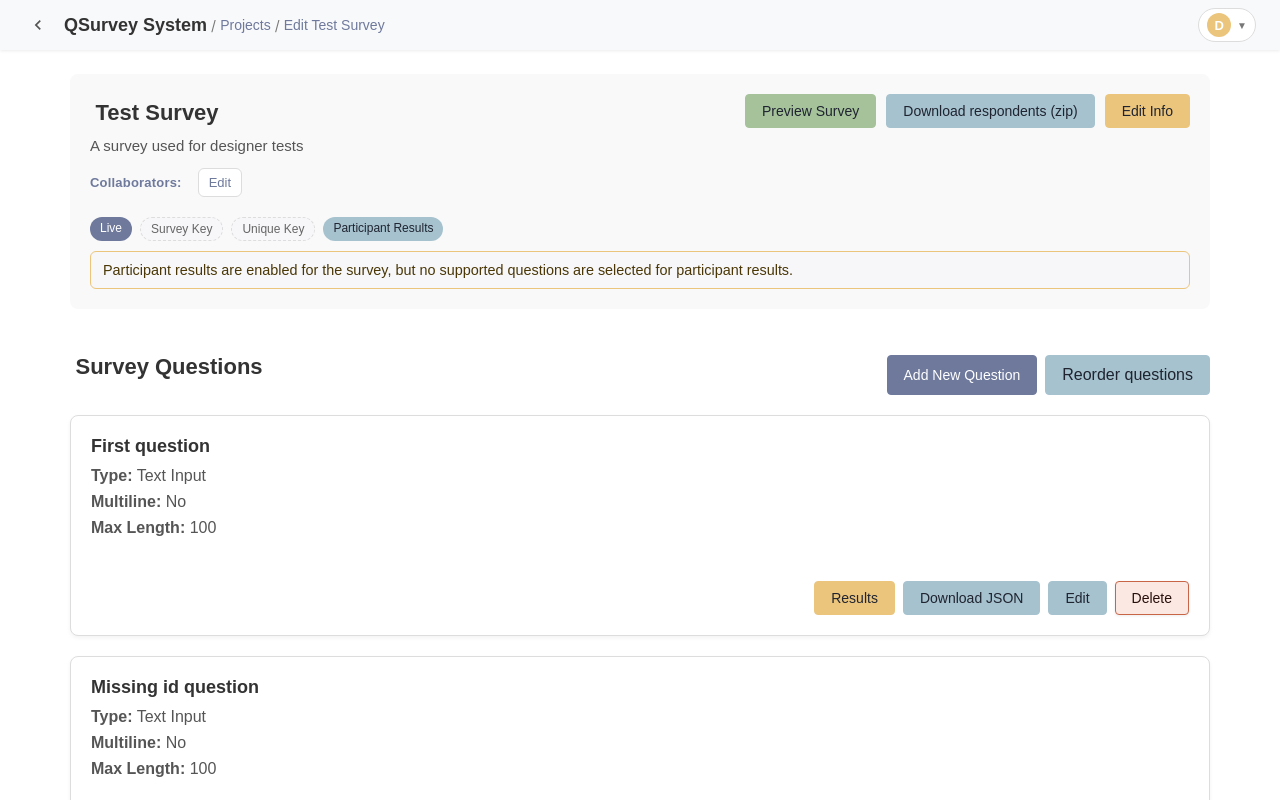
SurveyEdit designer workflows › shows error when a question is missing an id
This screenshot has width=1280, height=800.
Check: the heading "First question" is shown, box [91,436,210,456]
Click the button "Reorder questions" at (1128, 375), box [1045,355,1210,395]
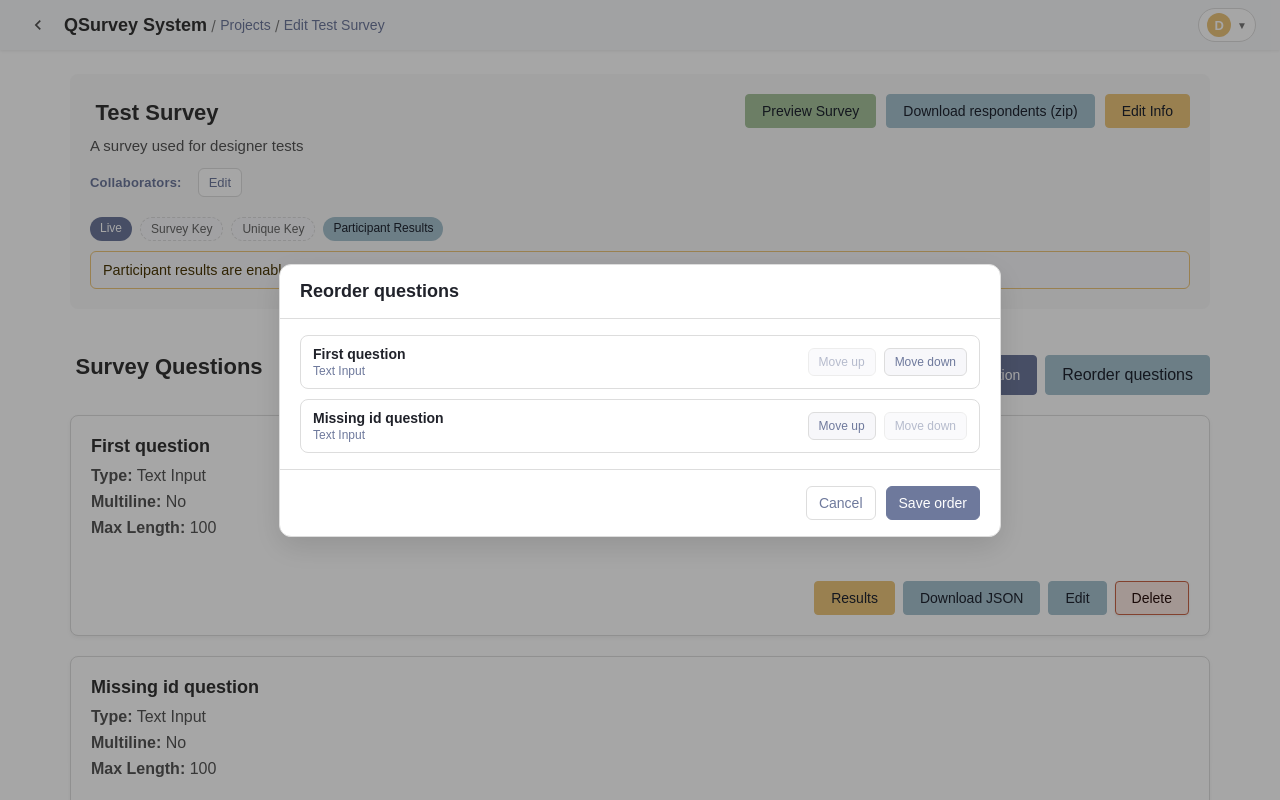
Click the button "Save order" at (933, 502), box [886,486,980,520]
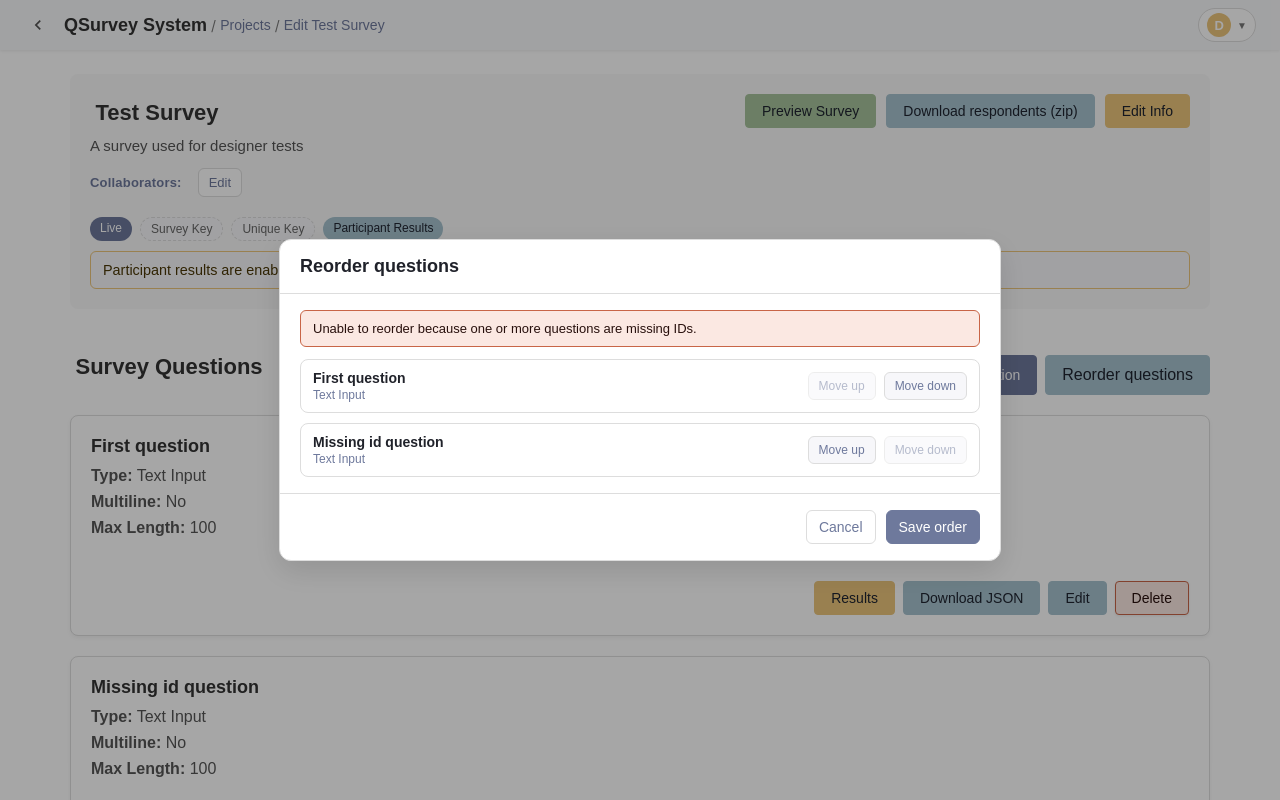
Check: the text "Unable to reorder because one or more questions are missing IDs." is shown, box [300,310,980,347]
